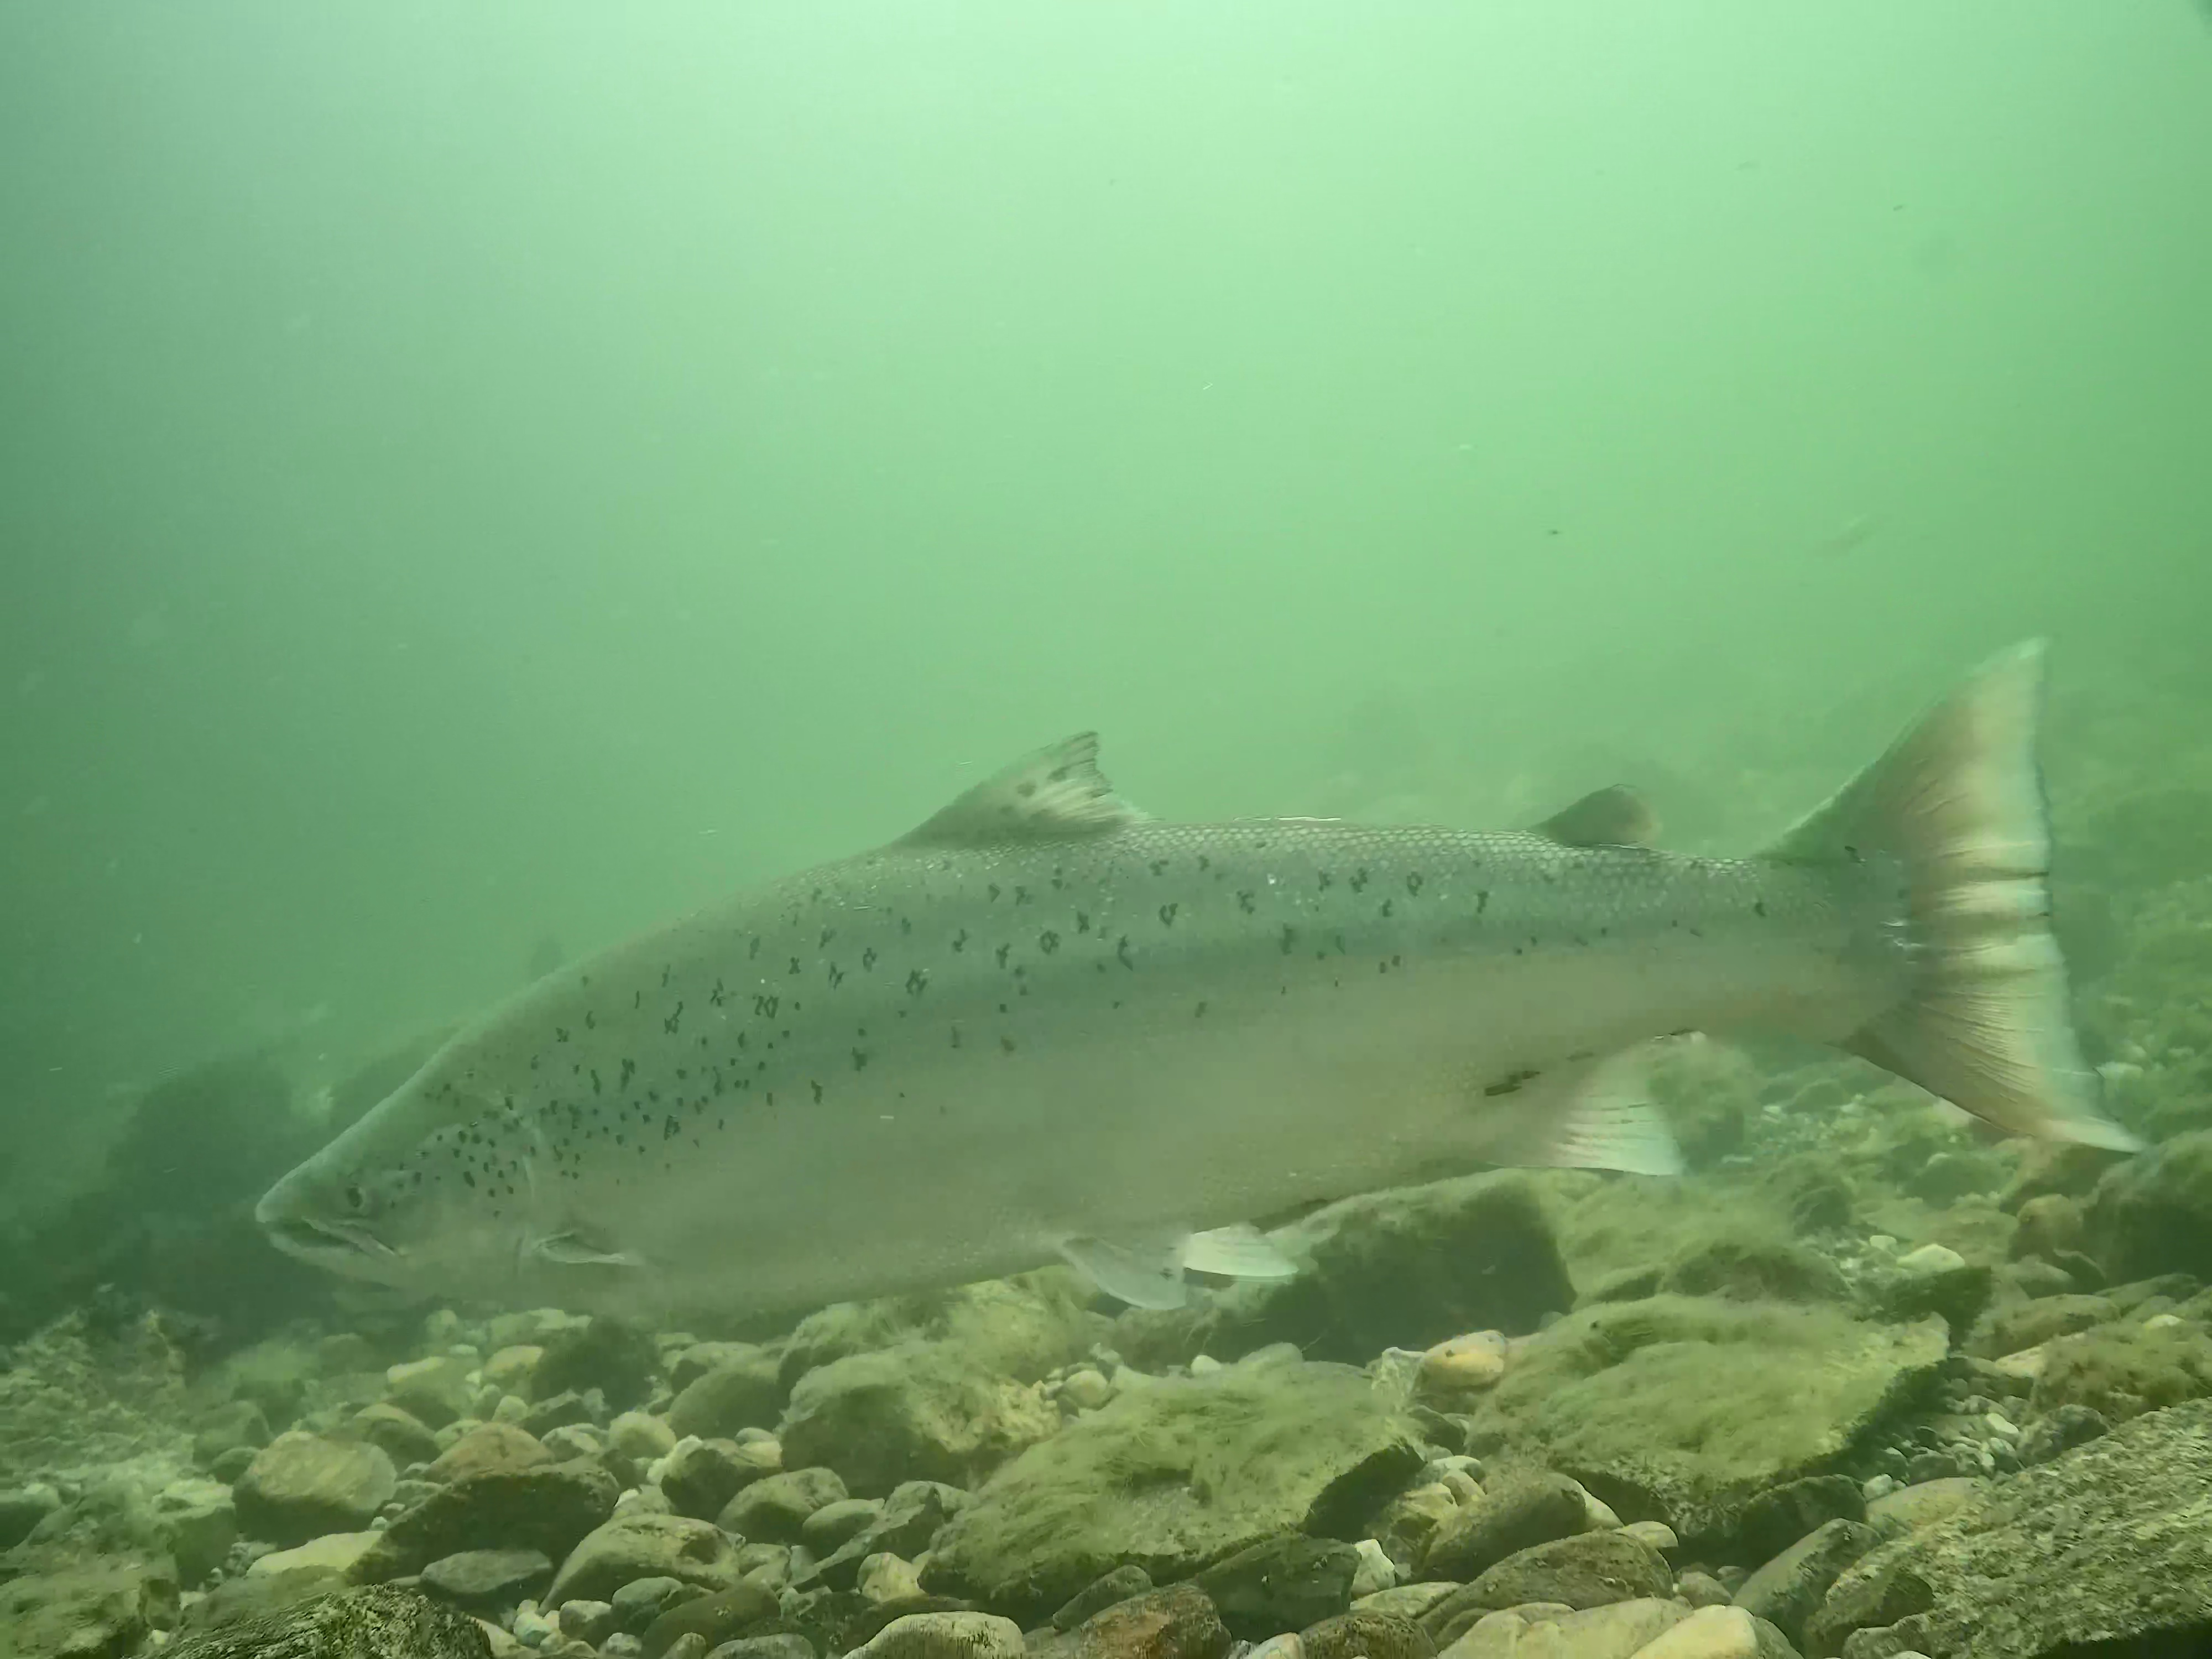salmon: (247, 631, 2149, 1331)
